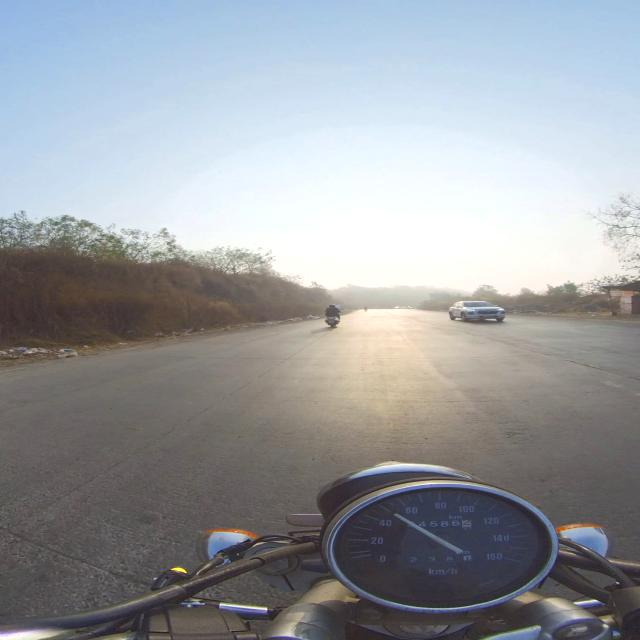car: (449, 301, 505, 321)
motorcycle: (0, 463, 639, 639), (325, 316, 340, 328)
